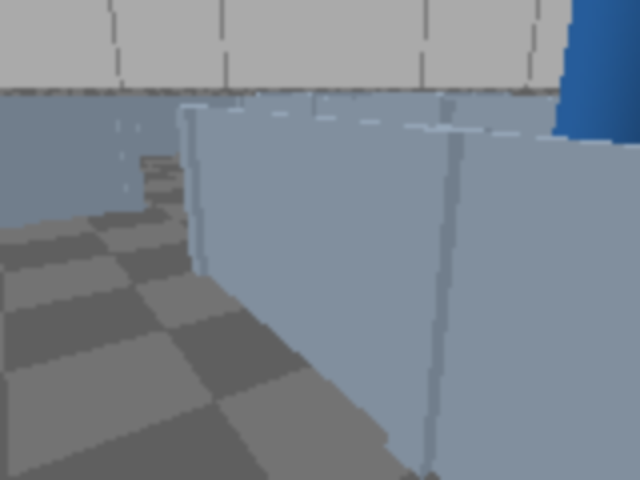person: (550, 0, 638, 242)
